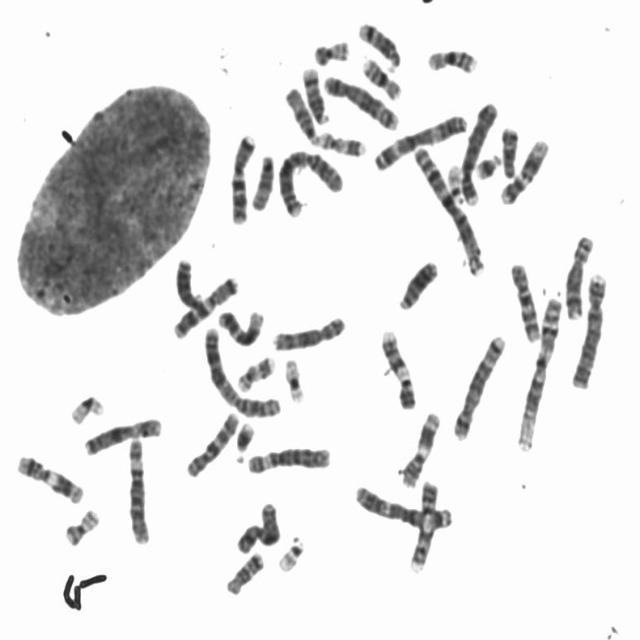A1: (408, 138, 488, 278), (511, 289, 565, 454)
A2: (200, 319, 284, 419), (273, 140, 346, 218)
A3: (368, 106, 471, 172), (350, 478, 454, 530)
B4: (566, 265, 610, 391), (455, 94, 500, 206)
B5: (448, 326, 508, 442), (319, 67, 400, 132)
C10: (181, 404, 242, 480), (505, 255, 543, 344)
C11: (10, 447, 86, 505), (396, 404, 444, 489)
C12: (495, 131, 552, 206), (214, 301, 266, 348)
C6: (122, 432, 154, 546), (242, 438, 333, 477)
C7: (168, 268, 241, 339), (225, 125, 258, 226)
C8: (267, 308, 349, 353), (560, 227, 597, 321)
C9: (376, 321, 419, 411), (404, 474, 442, 575)
D13: (394, 252, 441, 312), (170, 253, 205, 311)
D14: (354, 14, 403, 72), (297, 59, 332, 125)
D15: (280, 80, 321, 146), (246, 146, 277, 212)
E16: (357, 49, 404, 102), (422, 39, 481, 75)
E17: (232, 347, 278, 393), (315, 123, 368, 158)
E18: (221, 544, 267, 596), (496, 124, 521, 179)
F19: (65, 387, 107, 426), (279, 350, 308, 404)
F20: (60, 501, 102, 548), (308, 31, 352, 67)
G21: (470, 146, 504, 181), (230, 415, 256, 455)
G22: (272, 529, 306, 573), (443, 156, 465, 203)
X: (79, 409, 165, 457), (231, 494, 284, 554)
